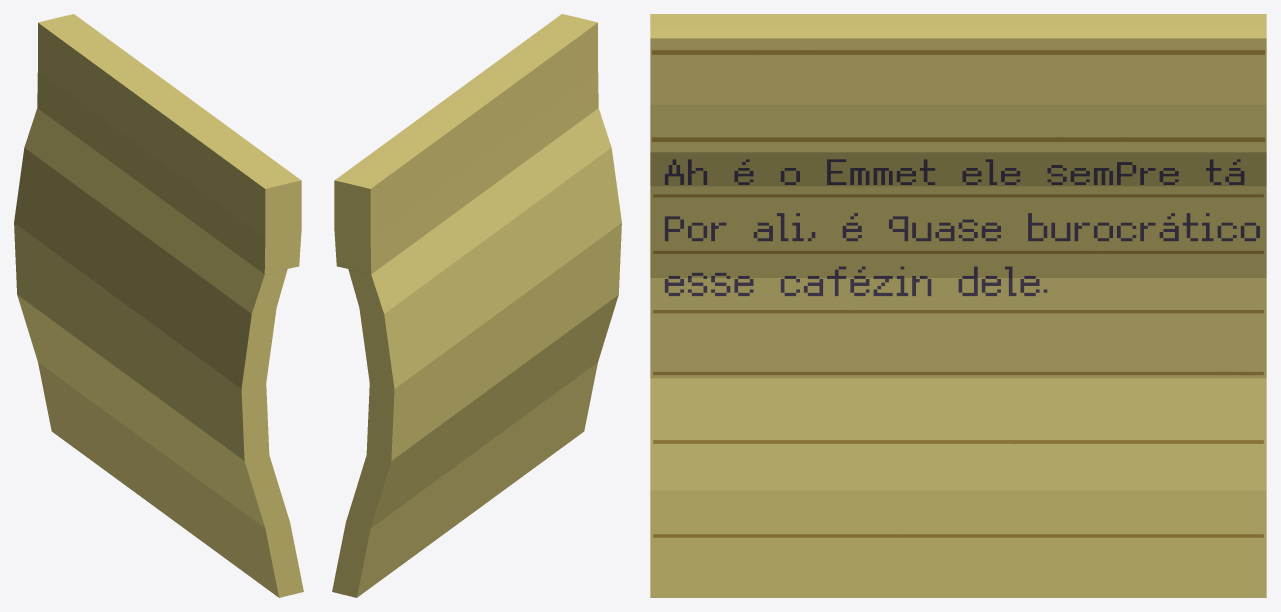
The model's file is pouistiiti3.fbx.
3 views of the same model, side by side, from view 1: azimuth 30°, elevation 25°; view 2: azimuth 150°, elevation 25°; view 3: azimuth 270°, elevation 25° (orthographic). The views are drawn at different scales.
Parts seen in each view (by area): view 1: Cube; view 2: Cube; view 3: Cube.
Boxes of the visible parts, x1=… form: Cube: x1=14, y1=14, x2=303, y2=597; Cube: x1=332, y1=14, x2=621, y2=597; Cube: x1=650, y1=14, x2=1266, y2=597.
Size of the model in its own units: 31.71 by 200 by 200.
1 material, 1 textured.
